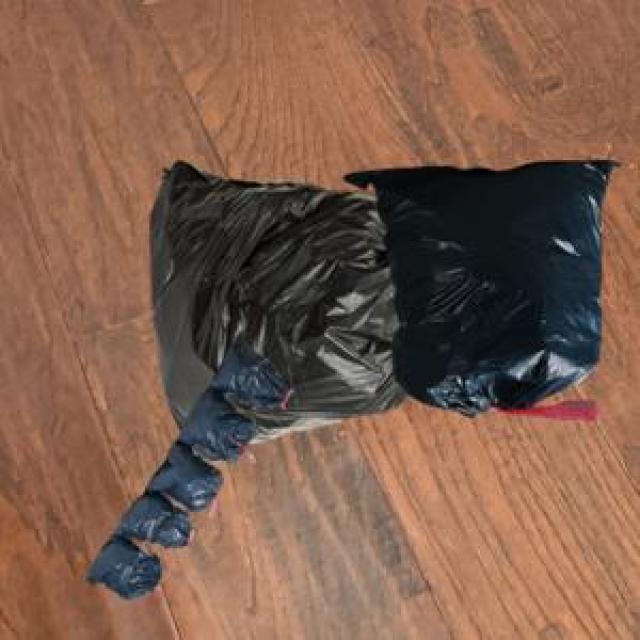waste: (88, 162, 614, 598)
